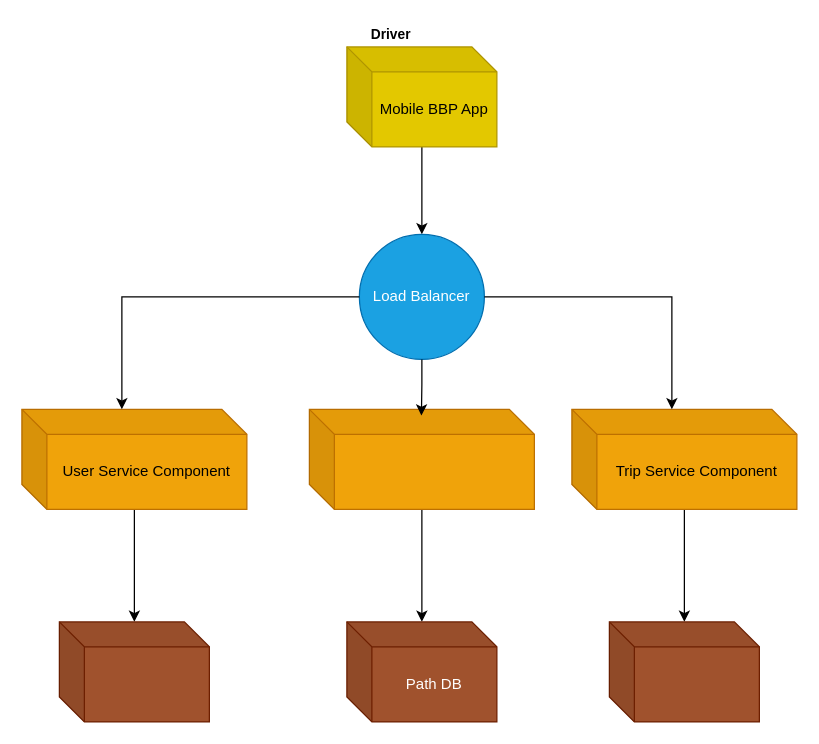
This 819x744 diagram has some shape labels left out. Here are the shapes that lost their labels. From the top down, the centre of each, then its label:
pixel 421 458: Path Service Component
pixel 133 671: User DB
pixel 683 671: Trip DB
